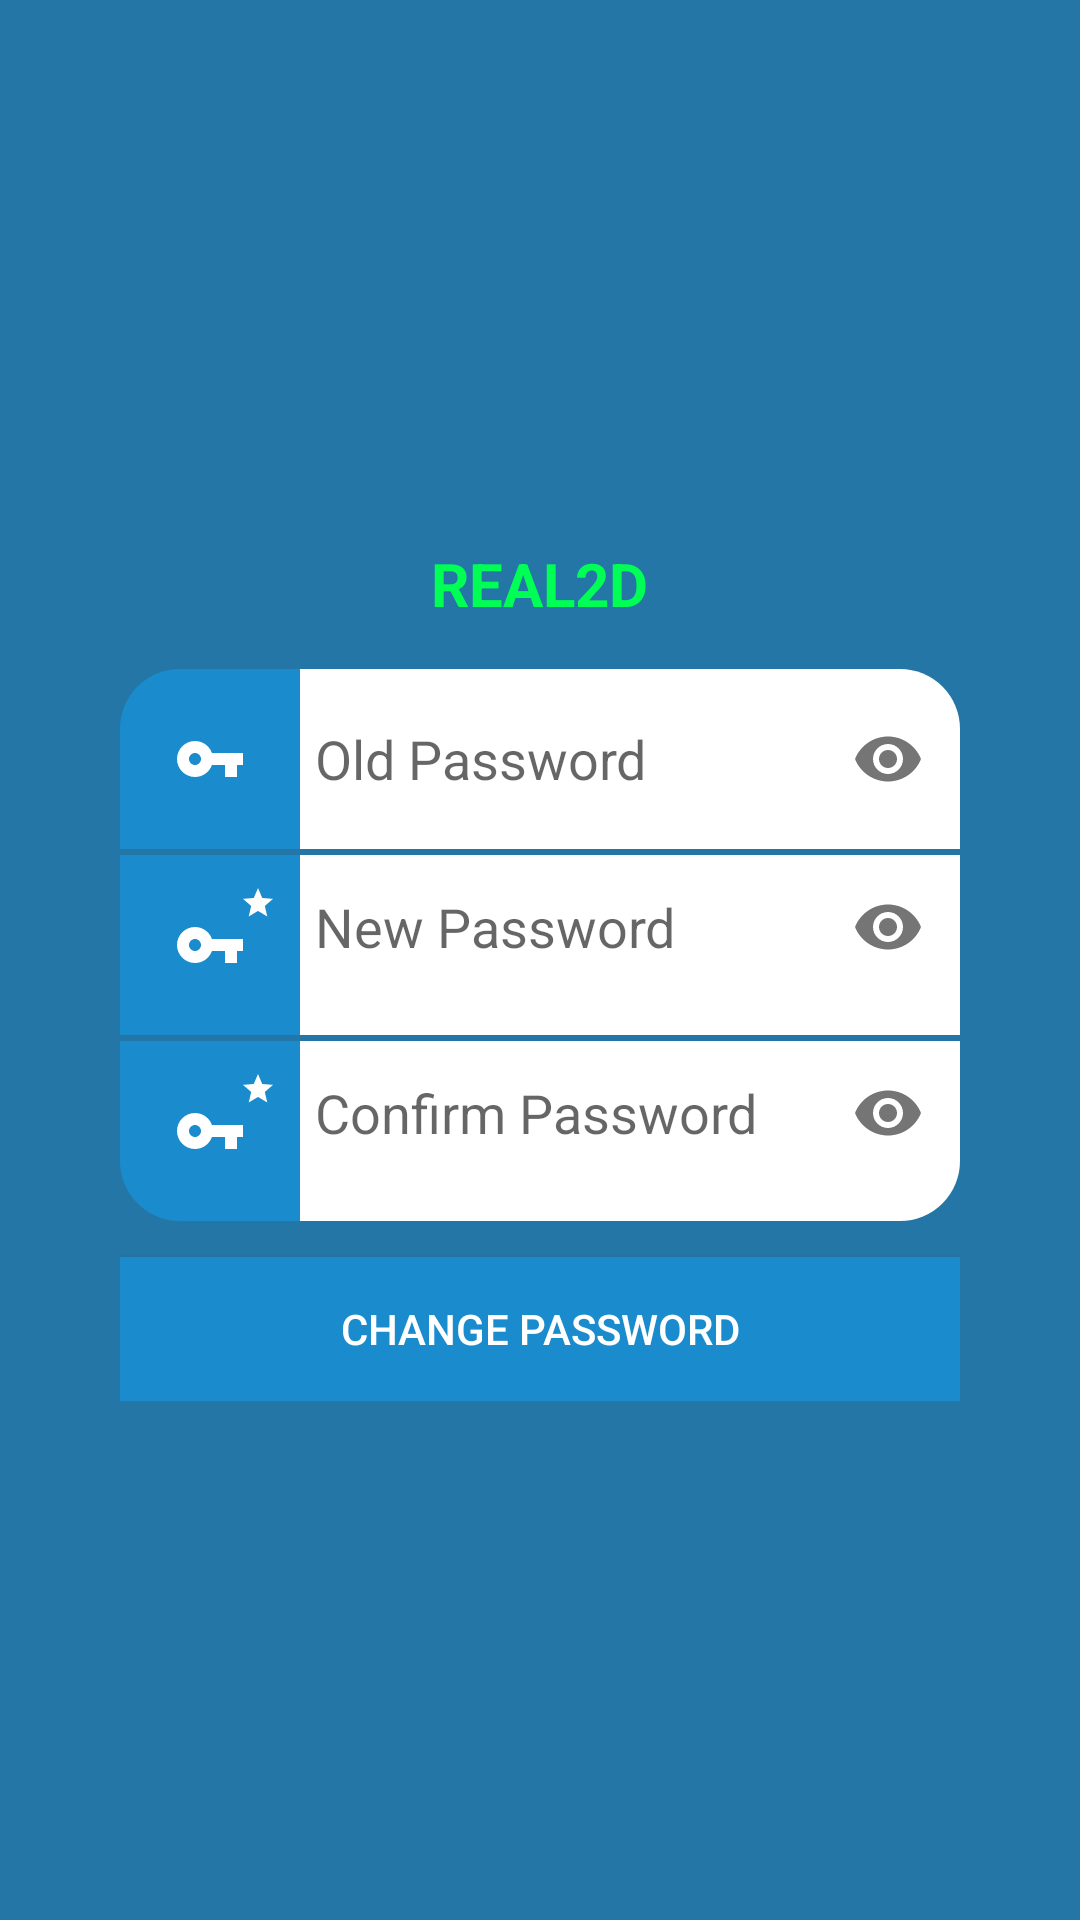

Screen size 1080px x 1920px. Icon name, then its center in pixels as (x=x, y=y):
star: (x=258, y=902), (x=258, y=1088)
vpn key: (x=210, y=759), (x=210, y=945), (x=210, y=1131)
